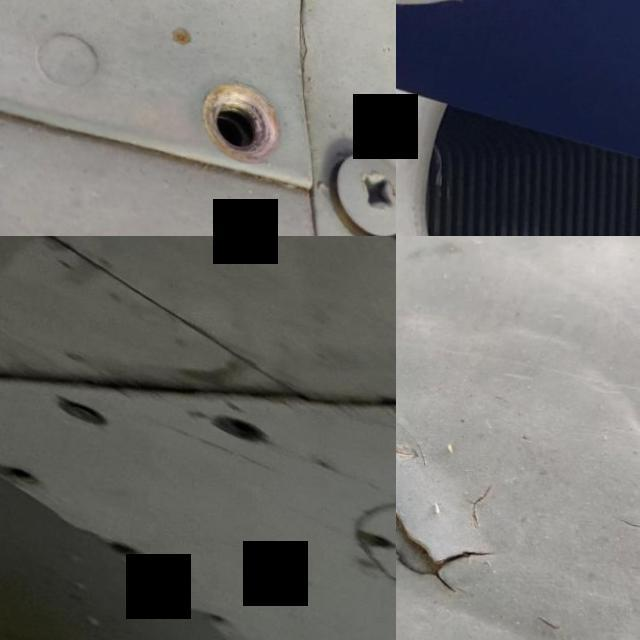Crack: (396, 310, 506, 602)
Missing_Fastener: (156, 43, 308, 206), (194, 405, 271, 448), (97, 532, 145, 566), (2, 460, 37, 489)
